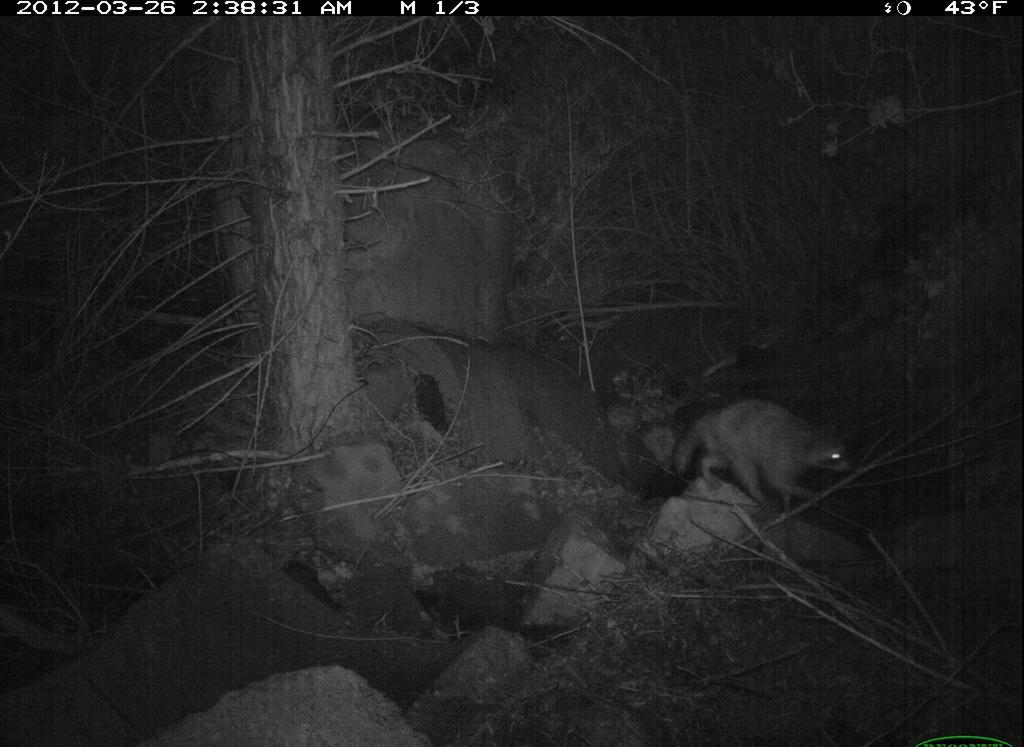raccoon: (667, 388, 868, 519)
